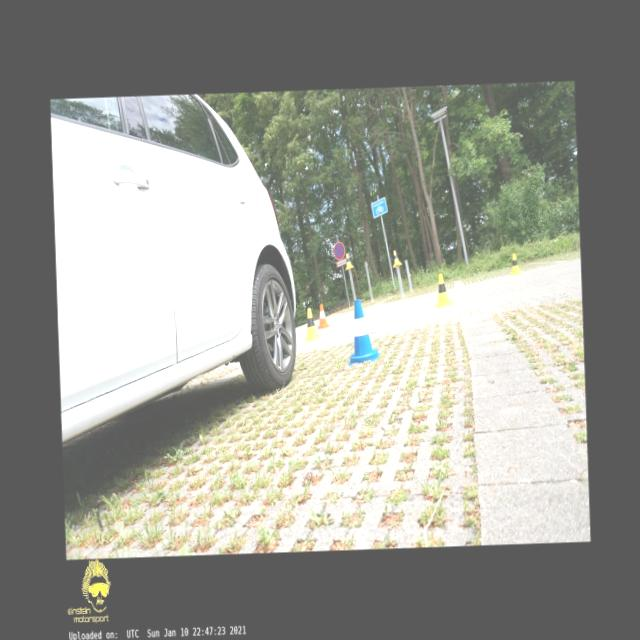blue_cone: (346, 298, 380, 365)
orange_cone: (316, 303, 329, 328)
yellow_cone: (434, 273, 454, 307), (302, 308, 320, 340), (509, 252, 521, 274), (392, 250, 402, 268), (344, 253, 354, 269)
